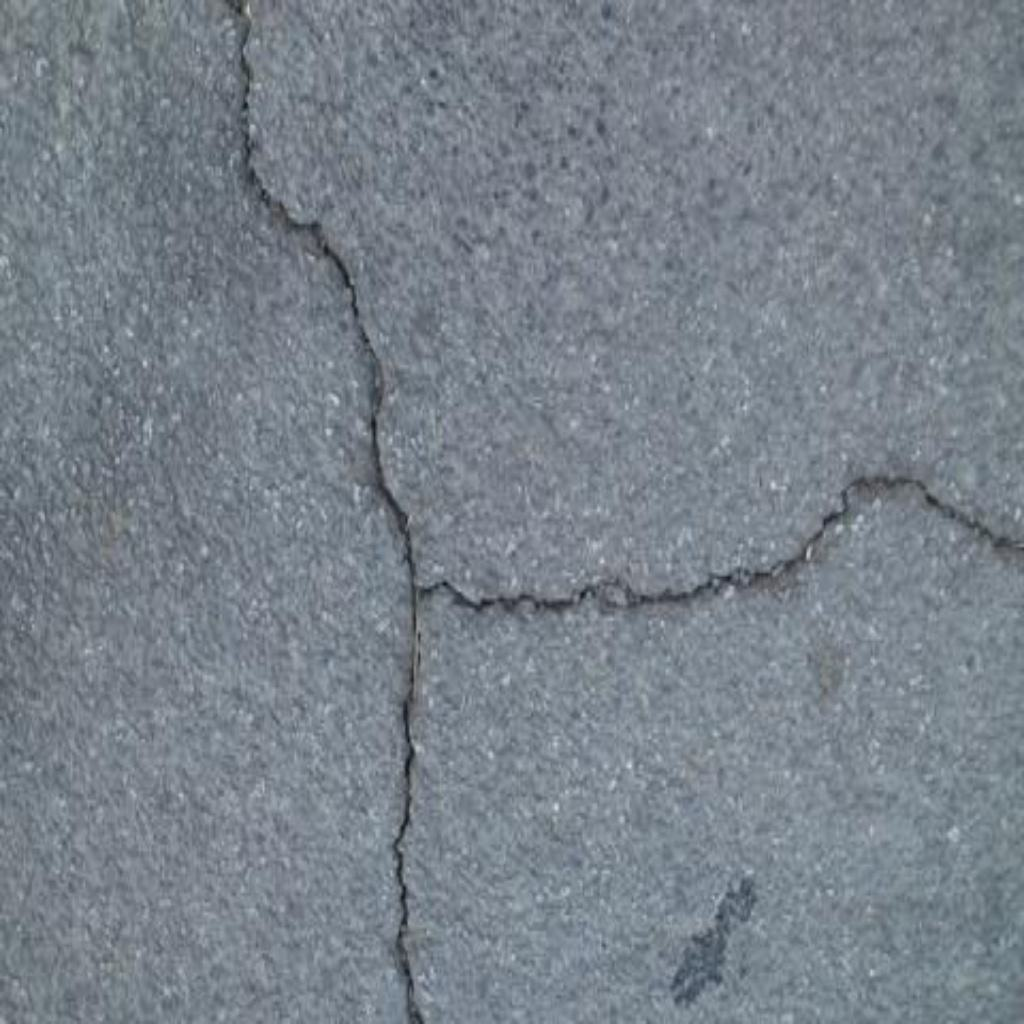Crack: (233, 1, 427, 1024), (415, 476, 1024, 616)
